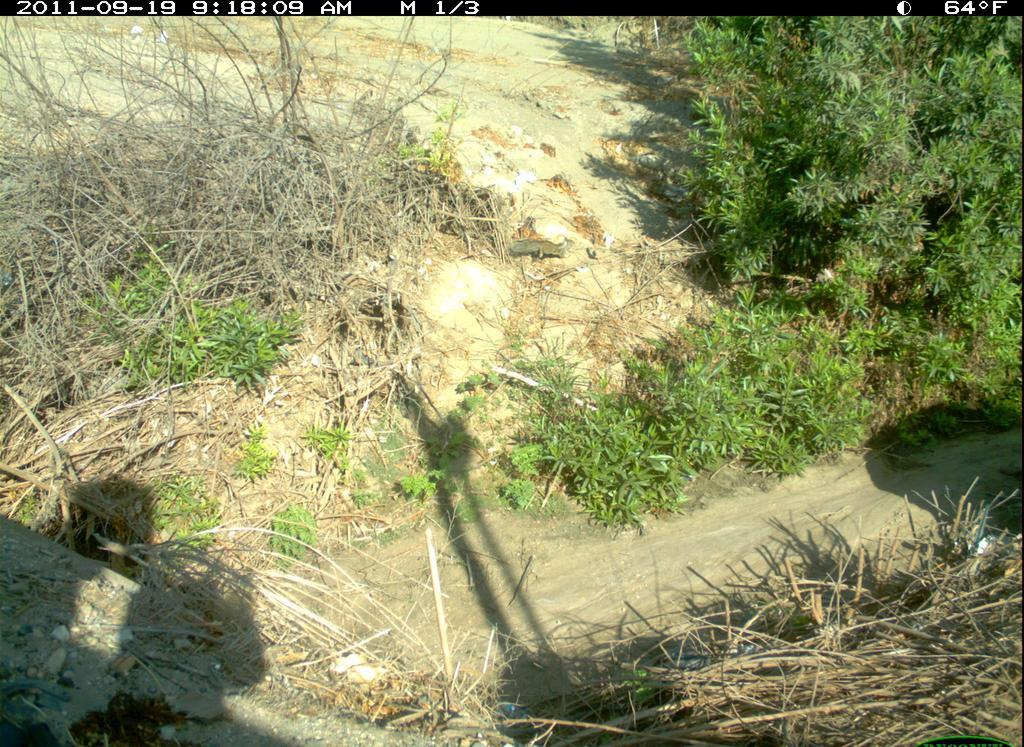squirrel: (505, 236, 578, 261)
